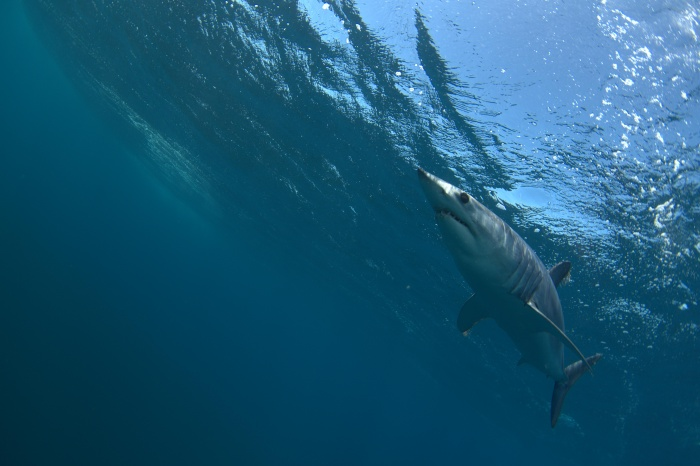Mako: (405, 156, 622, 435)
